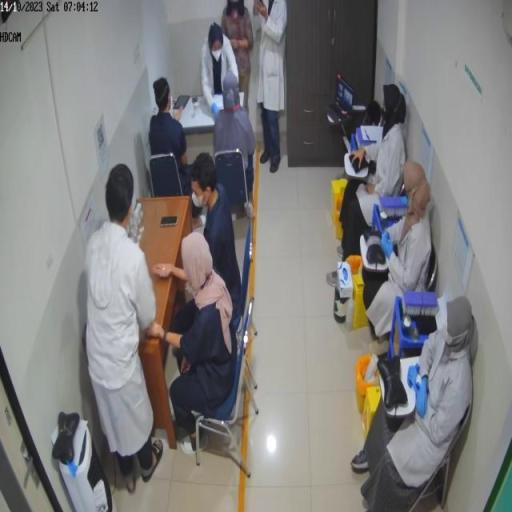person: (86, 167, 165, 494), (354, 298, 476, 502), (149, 232, 236, 453), (156, 155, 244, 327), (361, 160, 434, 338), (340, 85, 408, 263), (215, 74, 258, 213), (255, 2, 289, 174), (150, 78, 191, 195), (201, 23, 241, 117), (222, 1, 255, 113)
